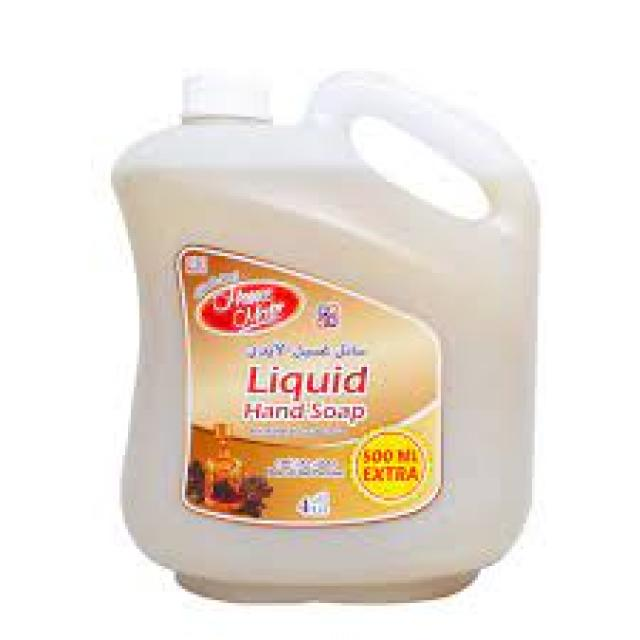liquid soap: (105, 55, 540, 609)
